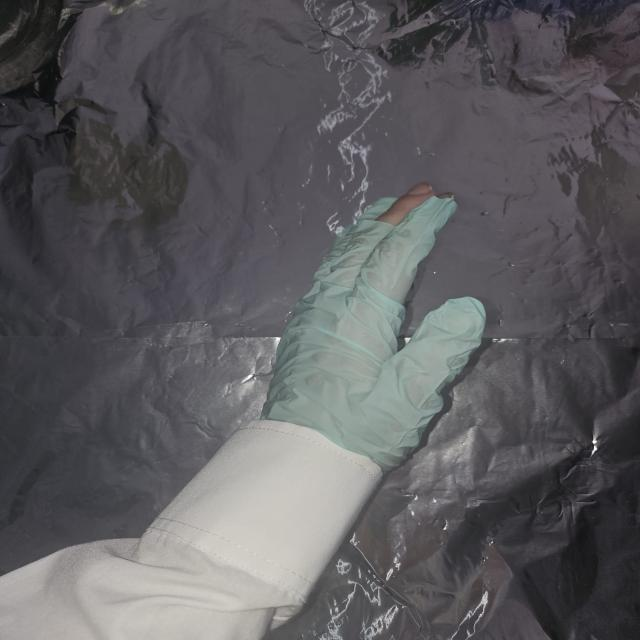gloves_damaged: (260, 180, 490, 476)
